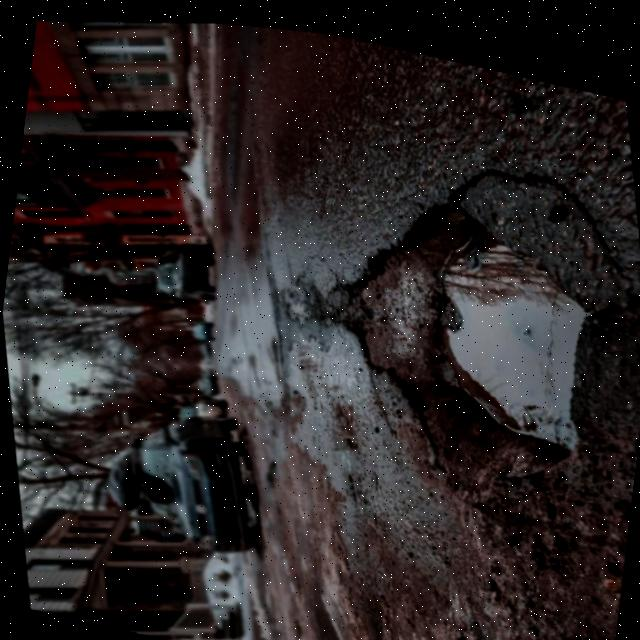Pothole: (238, 114, 640, 542)
